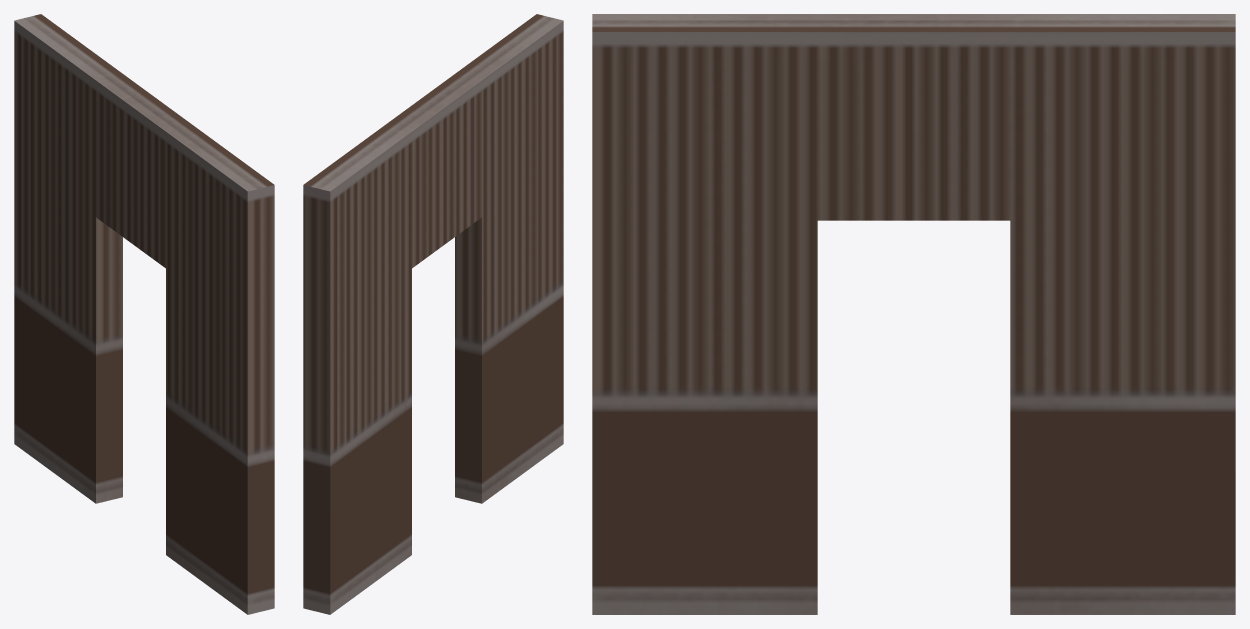
The model's file is WallBig_Door.fbx.
3 views of the same model, side by side, from view 1: azimuth 30°, elevation 25°; view 2: azimuth 150°, elevation 25°; view 3: azimuth 270°, elevation 25° (orthographic). The views are drawn at different scales.
Visible parts, largest first — view 1: WallBig_Door; view 2: WallBig_Door; view 3: WallBig_Door.
Boxes of the visible parts, x1,y1,x2,y2 form: WallBig_Door: [14, 14, 274, 614]; WallBig_Door: [303, 14, 563, 614]; WallBig_Door: [592, 14, 1235, 614].
Size of the model in its own units: 300 by 20 by 300.
